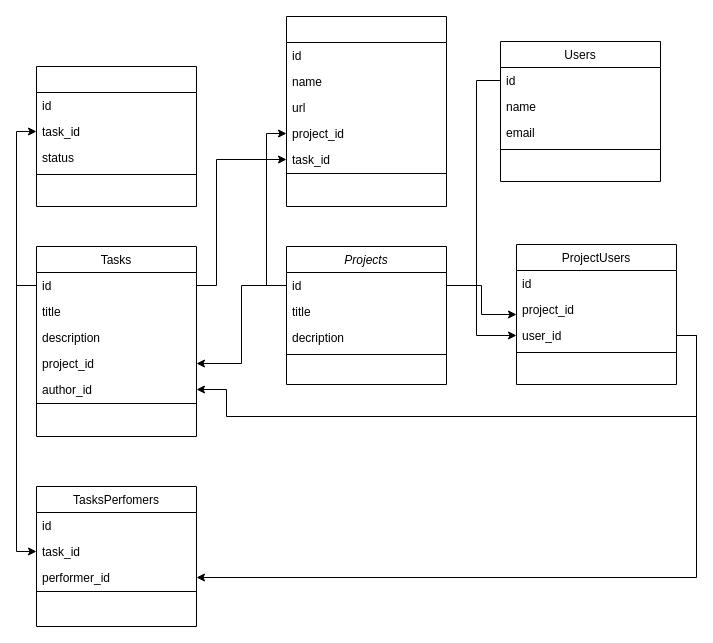
Some shapes in this 713 by 643 pixel diagram are drawn without their labels. Here are the shapes that lost their labels. From the top down, the box of each, then its label:
(286, 16, 446, 206): Files
(36, 66, 196, 206): Statuses
